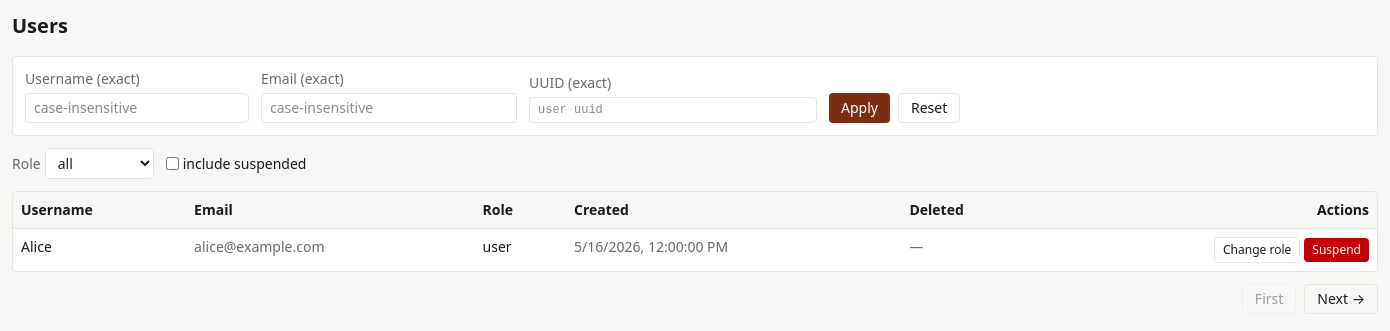
it: /users › hides cursor pager when an exact filter is active
The image size is (1390, 331).
Expected: the text "Alice" is shown, [13,228,186,271]
Expected: the button "Next →" is enabled, [1304,284,1378,314]
In the field with placeholder "case-insensitive": [137, 108] box [25,93,249,123], type "alice"
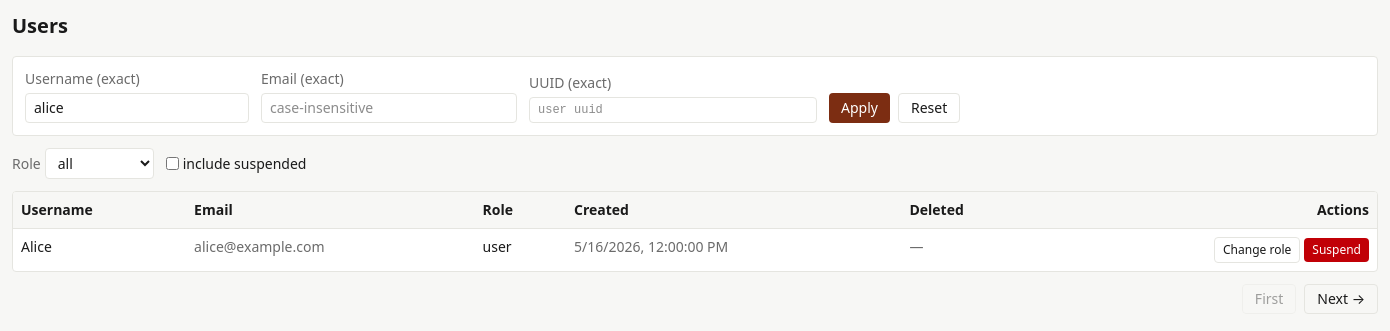
Click the button "Apply": [859, 108] box [829,93,890,123]
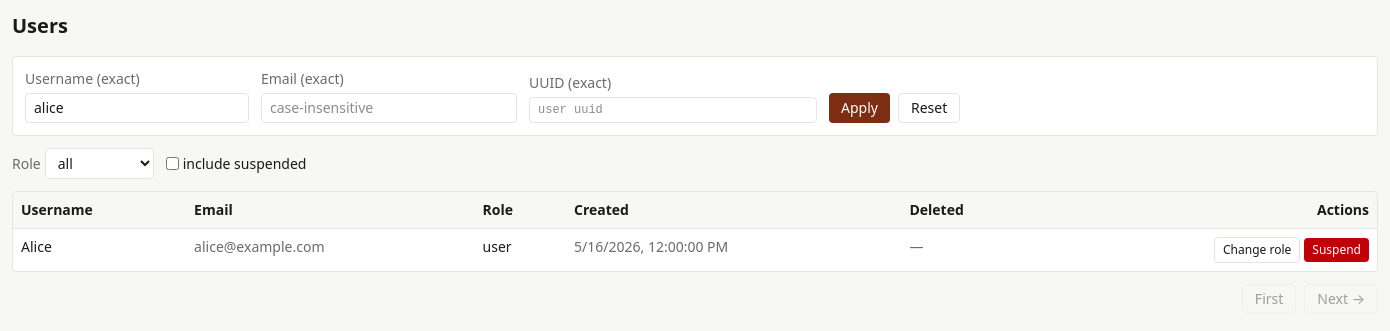
Now the button "Next →" is disabled, box [1304,284,1378,314]
